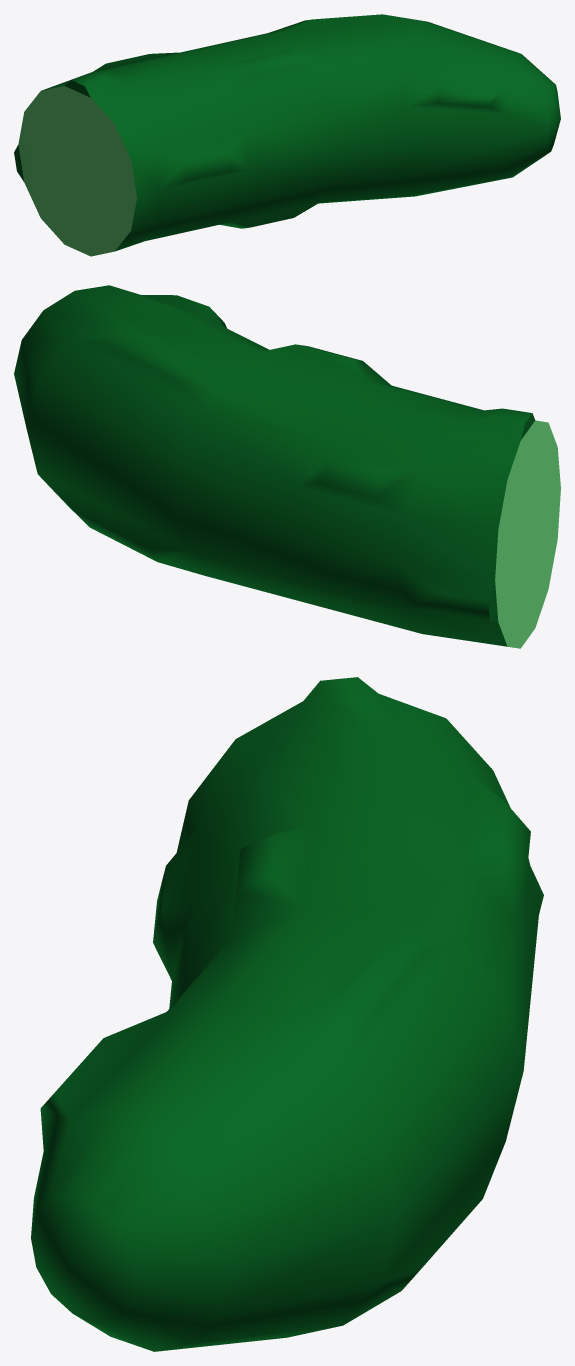
The model's file is mesh_Pickle_Stage05.fbx.
The picture shows the model from 3 angles, top to bottom: view 1: azimuth 30°, elevation 25°; view 2: azimuth 150°, elevation 25°; view 3: azimuth 270°, elevation 25°; orthographic projection. The views are drawn at different scales.
Visible parts, largest first — view 1: mesh_Pickle_Stage05; view 2: mesh_Pickle_Stage05; view 3: mesh_Pickle_Stage05.
Boxes of the visible parts, <box> form: mesh_Pickle_Stage05: <box>14,14,560,256</box>; mesh_Pickle_Stage05: <box>14,285,560,648</box>; mesh_Pickle_Stage05: <box>31,677,543,1351</box>.
Bounding box in the file's own units: 0.0956 × 0.0356 × 0.0476.
